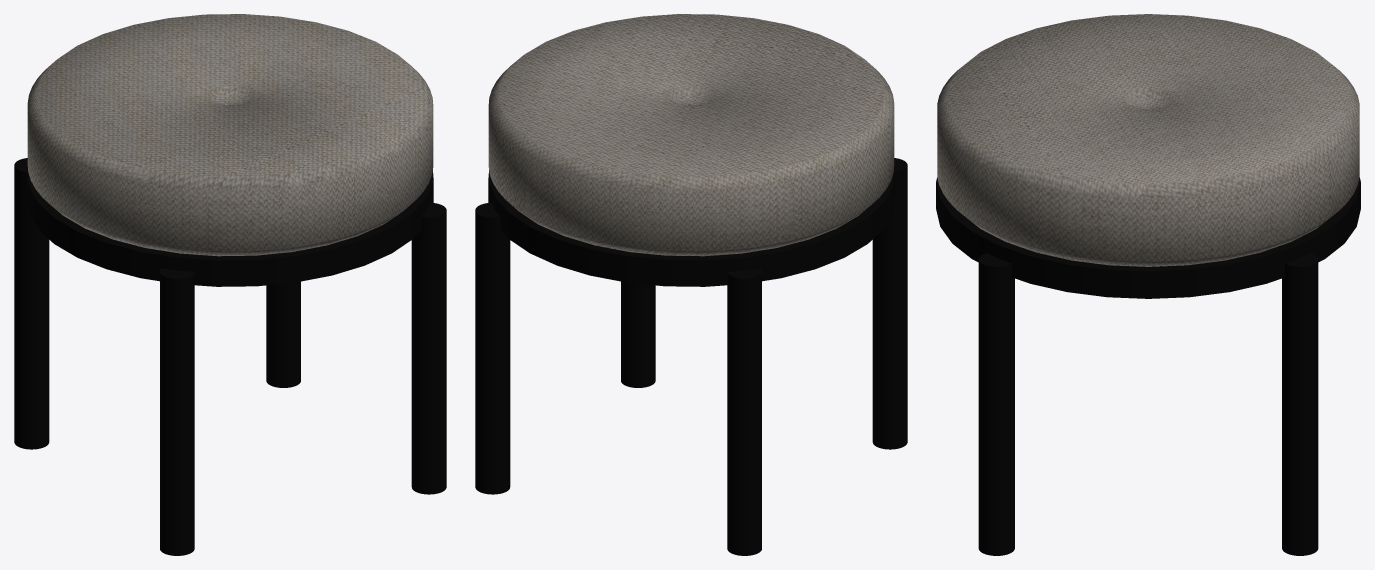
The model's file is furniture_seating_210047.glb.
3 views of the same model, side by side, from view 1: azimuth 30°, elevation 25°; view 2: azimuth 150°, elevation 25°; view 3: azimuth 270°, elevation 25° (orthographic). The views are drawn at different scales.
Parts seen in each view (by area): view 1: furniture_seating_210047; view 2: furniture_seating_210047; view 3: furniture_seating_210047.
Part boxes in pixels (bbox=[...]): furniture_seating_210047: bbox=[14, 14, 446, 555]; furniture_seating_210047: bbox=[475, 14, 907, 555]; furniture_seating_210047: bbox=[936, 14, 1360, 555].
Size of the model in its own units: 0.336 by 0.336 by 0.336.
1 material, 1 textured.
